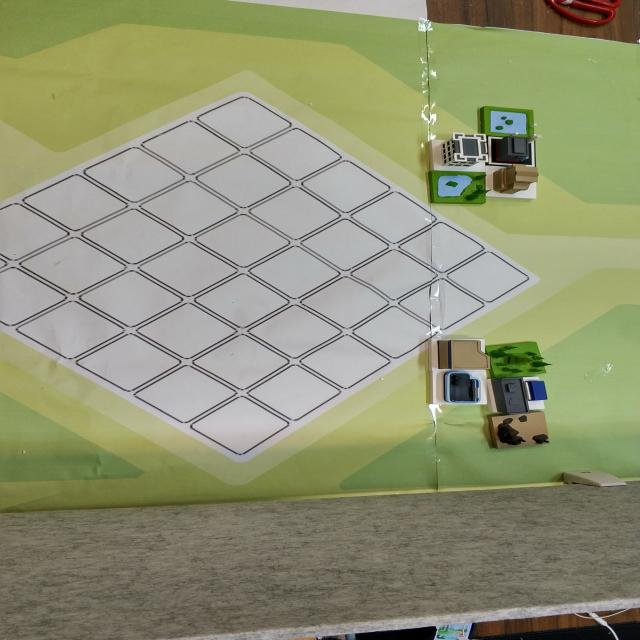bus_stop: (492, 376, 562, 415), (472, 103, 541, 138)
factory: (484, 133, 549, 169)
forest: (488, 338, 568, 378)
gogo_shop: (423, 369, 497, 412)
research_build: (426, 130, 492, 170)
restaurant: (427, 334, 495, 376)
silicate_rock: (484, 412, 554, 454)
volunteer_center: (491, 165, 555, 197)
wet_land: (421, 168, 494, 210)
